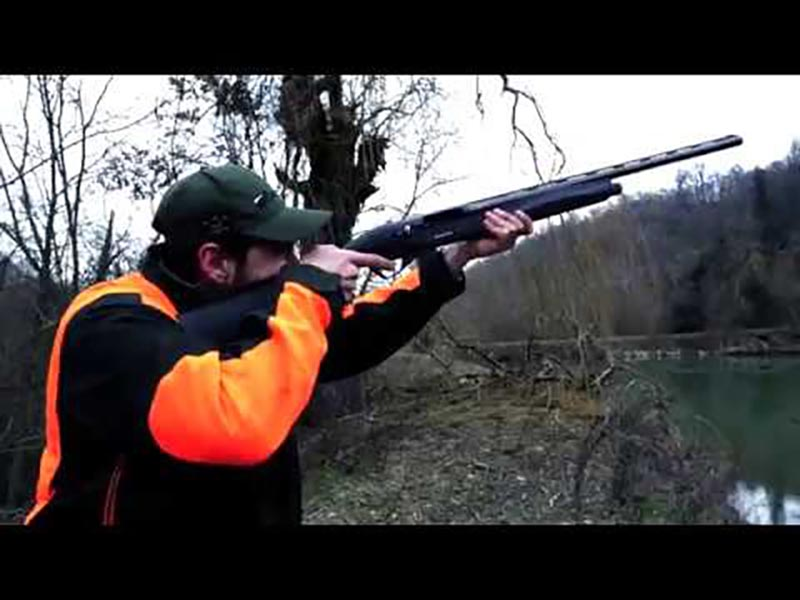cacciatore: (41, 153, 537, 528)
fucile: (180, 131, 746, 339)
